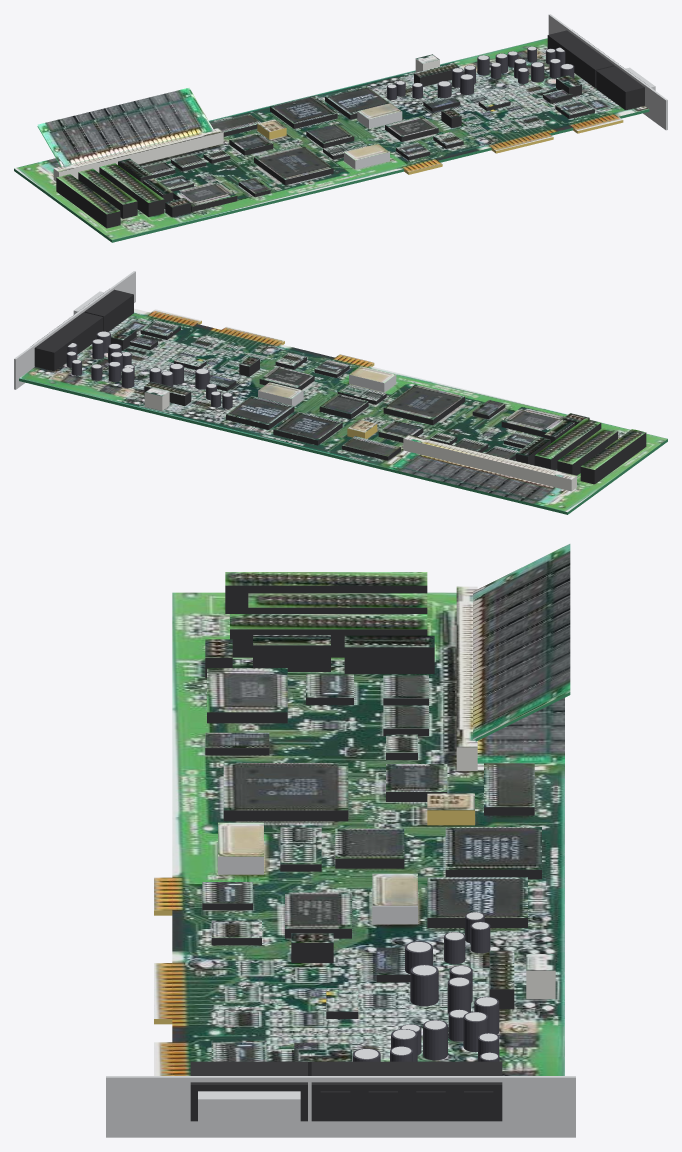
The model's file is SB_AWE32.glb.
3 renders of one model, top to bottom at view 1: azimuth 30°, elevation 25°; view 2: azimuth 150°, elevation 25°; view 3: azimuth 270°, elevation 25°, orthographic. The views are drawn at different scales.
Parts seen in each view (by area): view 1: PCB_top, SIMM, PCB, Jacks, SIMM_socket_body, QFP_big_top, DB15, Bracket, CT1741A_top, CT1745A_top, Hdr0_body, QFP_l_top (+19 smaller); view 2: PCB_top, PCB, SIMM_socket_body, Jacks, QFP_big_top, Bracket, DB15, CT1741A_top, CT1745A_top, Hdr0_body, SIMM_socket_top, QFP_l_top (+18 smaller); view 3: PCB_top, Bracket, SIMM, Jacks, QFP_big_top, CT1741A_top, CT1745A_top, QFP_l_top, DB15_shell, DB15, Hdr2_top, Hdr0_top (+34 smaller).
Boxes of the visible parts, box(x1,y1,x2,y2) form: PCB_top: box(14, 38, 648, 239); SIMM: box(37, 87, 213, 166); PCB: box(14, 109, 649, 242); Jacks: box(547, 30, 618, 88); SIMM_socket_body: box(53, 132, 223, 181); QFP_big_top: box(254, 145, 333, 179); DB15: box(596, 65, 645, 110); Bracket: box(548, 14, 667, 130); CT1741A_top: box(270, 96, 337, 123); CT1745A_top: box(325, 86, 389, 114); Hdr0_body: box(56, 177, 120, 228); QFP_l_top: box(173, 181, 236, 206); PCB_top: box(19, 308, 667, 512); PCB: box(19, 378, 667, 514); SIMM_socket_body: box(403, 438, 576, 491); Jacks: box(32, 311, 103, 371); QFP_big_top: box(384, 384, 464, 419); Bracket: box(14, 271, 135, 389); DB15: box(84, 289, 133, 331); CT1741A_top: box(273, 411, 342, 440); CT1745A_top: box(226, 396, 293, 424); Hdr0_body: box(580, 432, 646, 484); SIMM_socket_top: box(403, 434, 576, 479); QFP_l_top: box(502, 406, 564, 432); PCB_top: box(172, 592, 564, 1075); Bracket: box(106, 1076, 575, 1137); SIMM: box(473, 544, 570, 739); Jacks: box(311, 1061, 502, 1121); QFP_big_top: box(223, 763, 348, 810); CT1741A_top: box(445, 827, 541, 869); CT1745A_top: box(427, 877, 527, 917); QFP_l_top: box(207, 668, 287, 712); DB15_shell: box(198, 1091, 300, 1125); DB15: box(190, 1061, 307, 1121); Hdr2_top: box(230, 614, 427, 629); Hdr0_top: box(225, 572, 427, 585).
Bounding box in the file's own units: 0.346 × 0.0276 × 0.128.
Materials: 7 (1 with a texture image).
